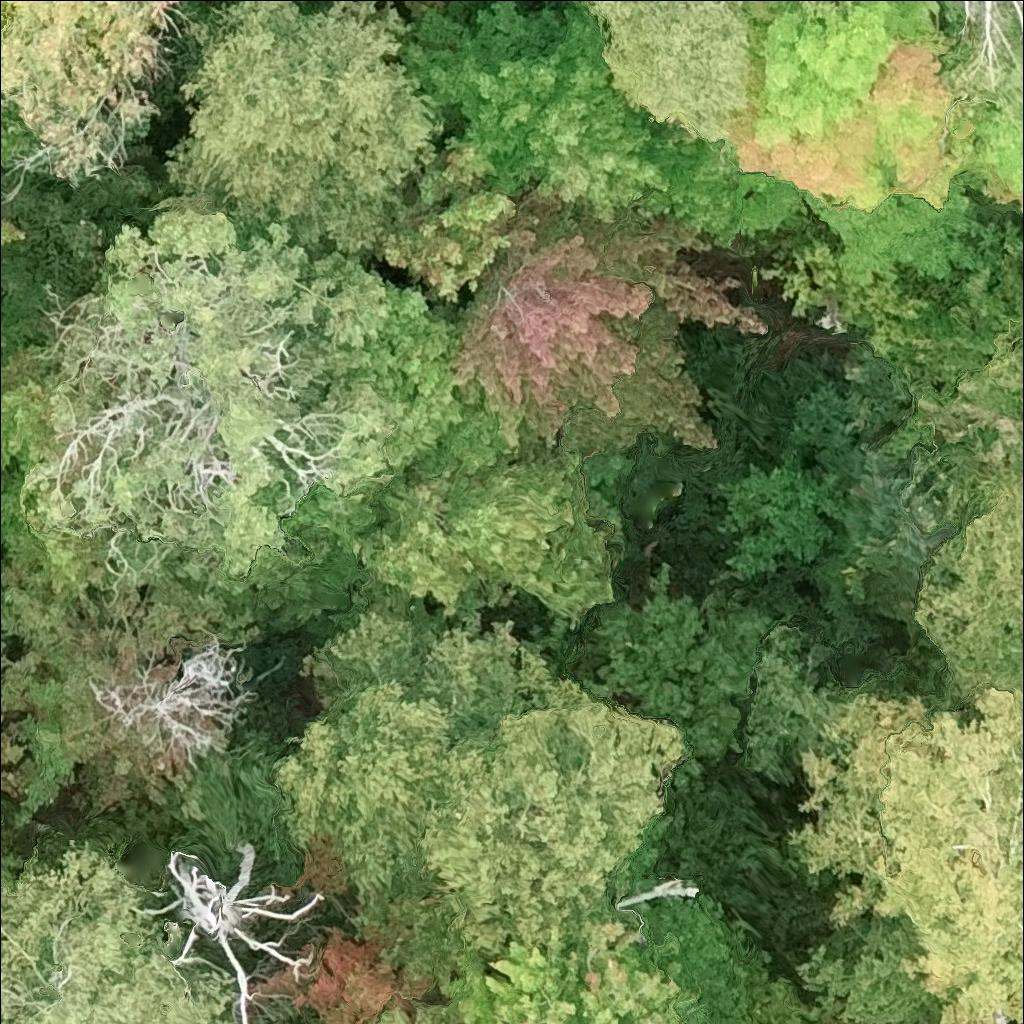crown: (271, 570, 687, 954), (45, 191, 406, 581), (626, 0, 1023, 285), (451, 186, 772, 452), (787, 684, 1023, 1023), (161, 0, 447, 256), (402, 0, 671, 221), (358, 404, 623, 628), (0, 832, 242, 1023), (132, 839, 326, 1023), (0, 0, 188, 186), (582, 0, 762, 142), (376, 127, 519, 303), (912, 473, 1023, 694), (442, 928, 697, 1023), (368, 277, 484, 471), (978, 313, 1023, 411), (375, 1000, 461, 1023), (746, 0, 833, 20), (0, 125, 35, 167), (0, 210, 36, 248), (938, 1001, 967, 1023), (0, 20, 4, 38)
